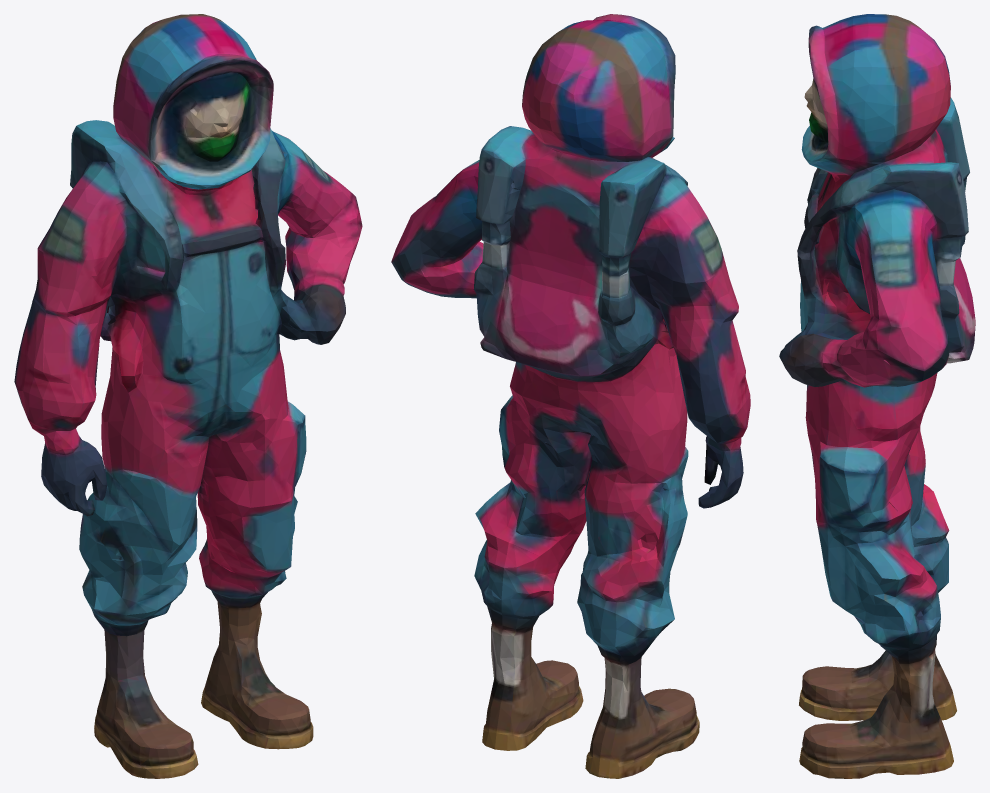
File: anime_future_commoner.glb
The picture shows the model from 3 angles, left to right: view 1: azimuth 30°, elevation 25°; view 2: azimuth 150°, elevation 25°; view 3: azimuth 270°, elevation 25°; orthographic projection.
Visible parts, largest first — view 1: geometry_0; view 2: geometry_0; view 3: geometry_0.
Part boxes in pixels (bbox=[...]): geometry_0: bbox=[14, 14, 362, 778]; geometry_0: bbox=[391, 14, 750, 778]; geometry_0: bbox=[779, 14, 975, 778].
Bounding box in the file's own units: 0.4918 × 0.9966 × 0.2494.
Materials: 1 (1 with a texture image).
